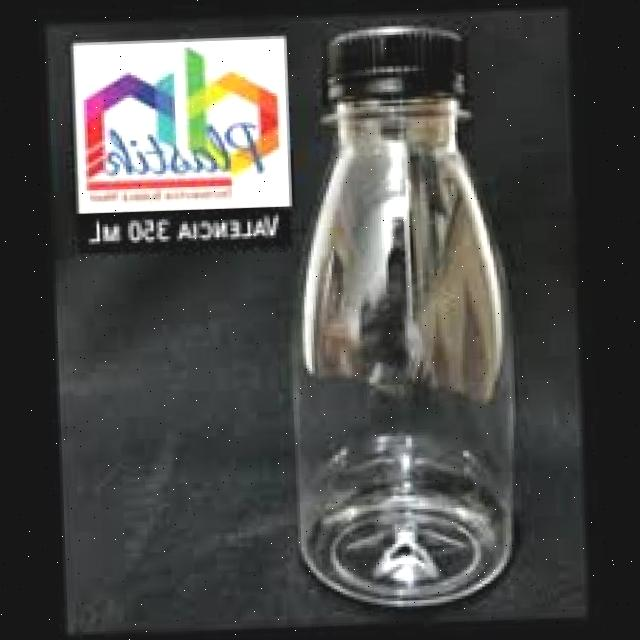bottle: (262, 18, 526, 610)
cap: (318, 23, 476, 103)
